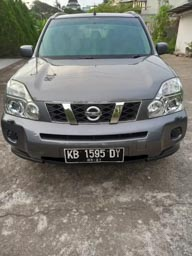plat: (62, 148, 124, 158)
